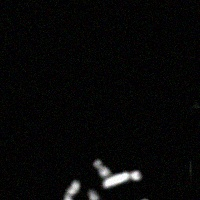chromosome: (103, 171, 142, 188), (93, 159, 110, 177), (64, 180, 79, 200), (88, 189, 99, 200), (134, 197, 151, 200)
